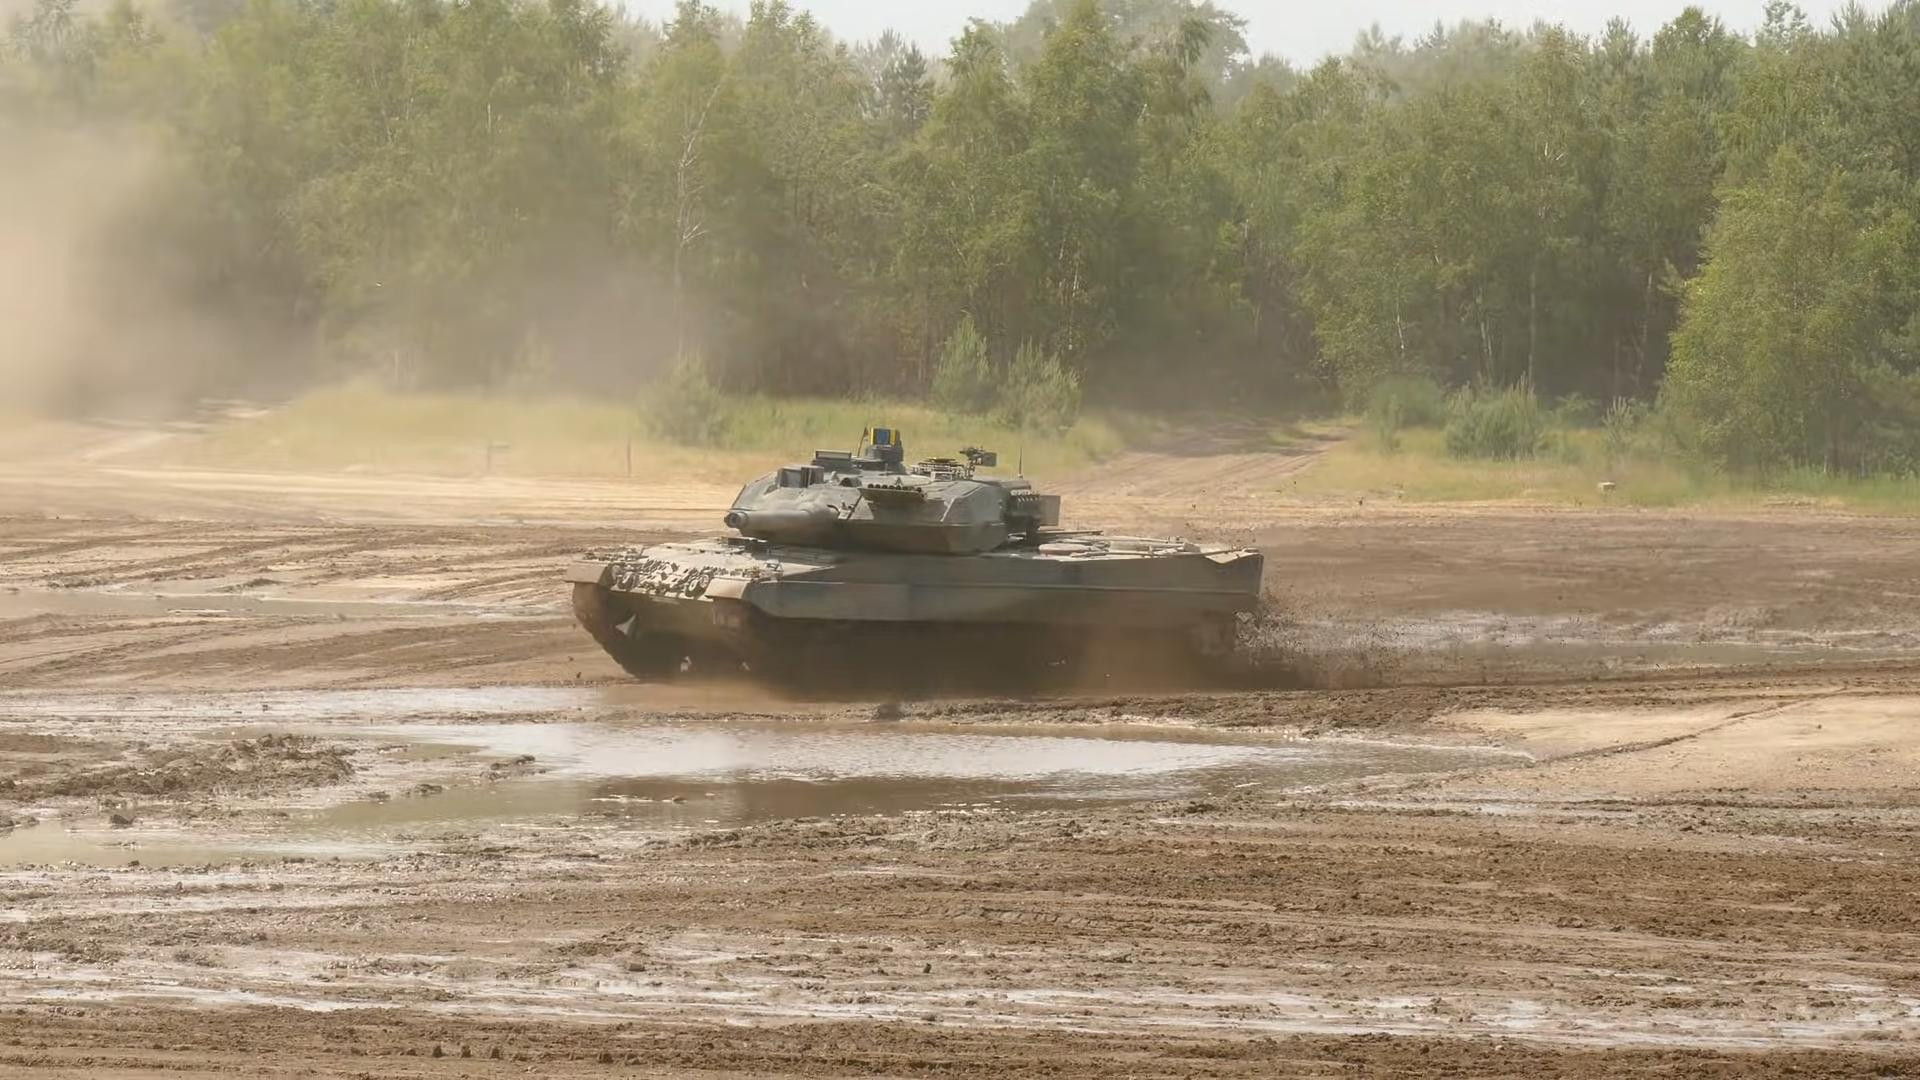tank: (564, 427, 1269, 683)
